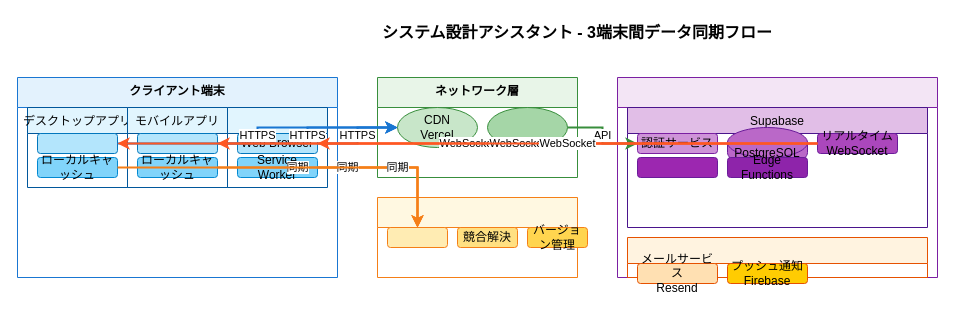
The diagram is 955 pixels wide and 312 high, and some of its shapes have lost their labels. Here are the shapes that lost their labels. From the top down, the box of each, then its label:
(36, 132, 118, 154): Electron App
(136, 132, 218, 154): Mobile App
(226, 106, 328, 188): ウェブアプリ
(486, 106, 568, 148): API Gateway
(636, 156, 718, 178): ファイル ストレージ
(616, 76, 938, 278): バックエンド
(386, 226, 448, 248): 同期管理
(376, 196, 578, 278): データ同期
(626, 236, 928, 278): 外部サービス
